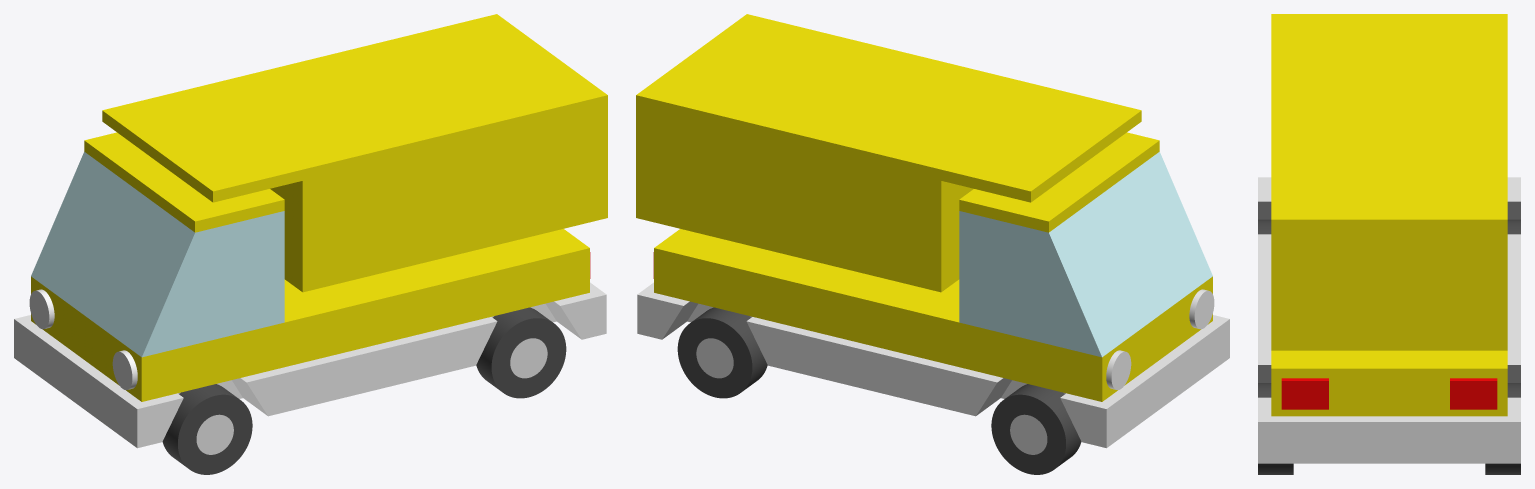
File: stylized-dump-truck.glb
The picture shows the model from 3 angles, left to right: view 1: azimuth 30°, elevation 25°; view 2: azimuth 150°, elevation 25°; view 3: azimuth 270°, elevation 25°; orthographic projection. The views are drawn at different scales.
Bounding box in the file's own units: 4.47 × 2.48 × 2.
